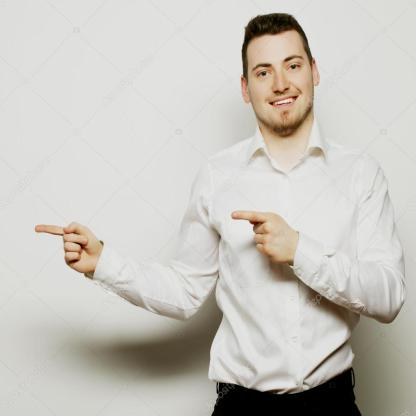Right: (227, 201, 301, 279), (29, 213, 107, 282)
